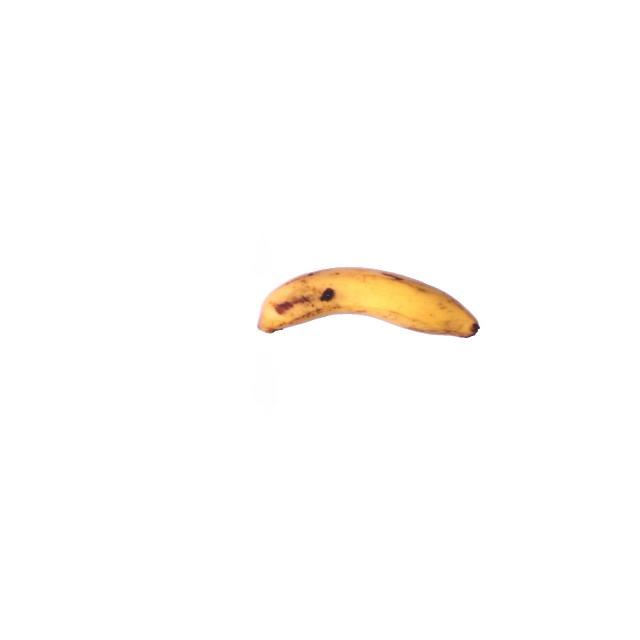banana: (254, 264, 482, 342)
